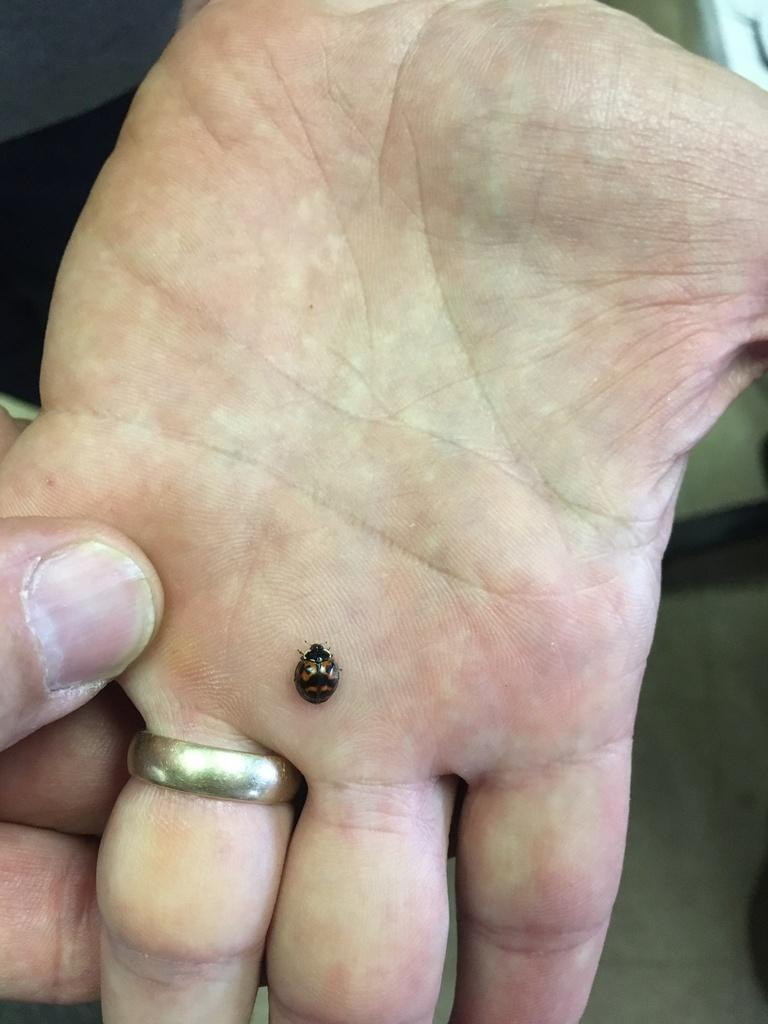ladybug: (293, 639, 347, 706)
